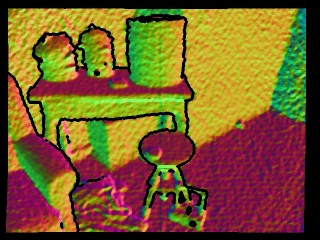station: (168, 181, 209, 229)
